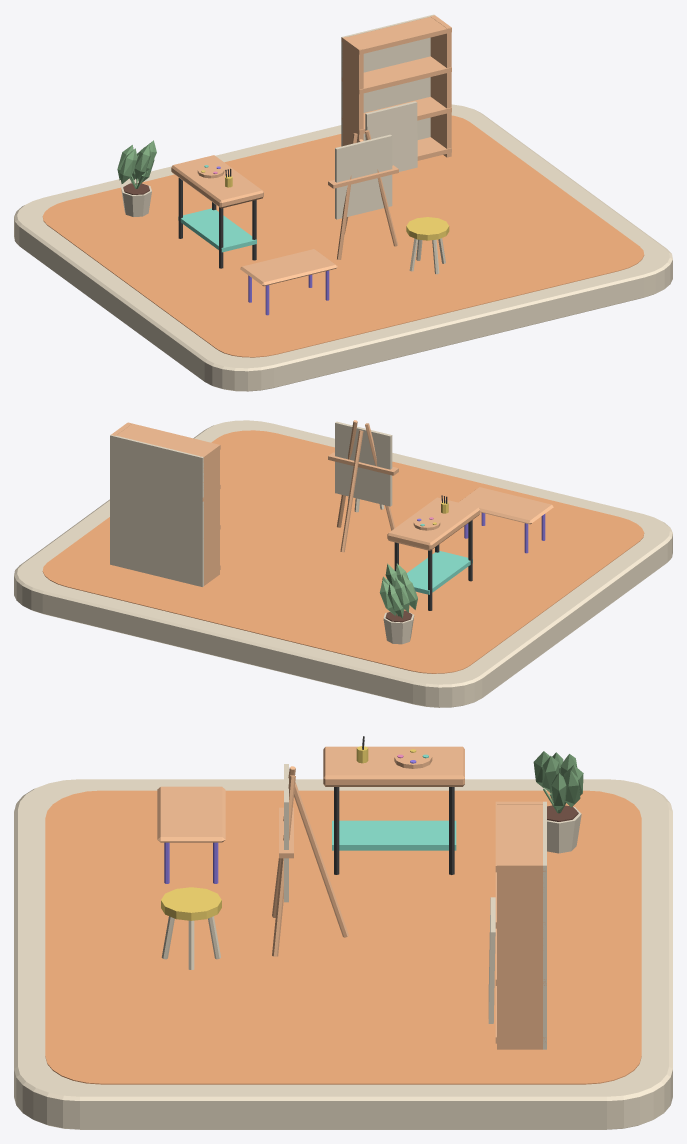
Rendered from room.fbx.
The picture shows the model from 3 angles, top to bottom: view 1: azimuth 30°, elevation 25°; view 2: azimuth 150°, elevation 25°; view 3: azimuth 270°, elevation 25°; orthographic projection. The views are drawn at different scales.
Parts seen in each view (by area): view 1: COM-02 Floor Surface, COM-01 Rounded Base Direct, Canvas, Back, Blank canvas, Worktop, Pot, Side.003, Side.002, Rounded table top, Shelf.003, Shelf.002 (+3 smaller); view 2: COM-02 Floor Surface, COM-01 Rounded Base Direct, Back, Canvas, Worktop, Pot, Side.002, Rounded table top, Lower shelf, Shelf.003, Rear leg; view 3: COM-02 Floor Surface, COM-01 Rounded Base Direct, Side.003, Worktop, Rounded table top, Lower shelf, Pot, Shelf.003, Seat, Rear leg, Back, Side.001 (+3 smaller).
Part boxes in pixels (left/top/right/bottom): COM-02 Floor Surface: left=42, top=115, right=644, bottom=357; COM-01 Rounded Base Direct: left=14, top=104, right=672, bottom=391; Canvas: left=335, top=134, right=392, bottom=219; Back: left=341, top=14, right=434, bottom=146; Blank canvas: left=365, top=101, right=417, bottom=171; Worktop: left=171, top=155, right=263, bottom=208; Pot: left=117, top=140, right=156, bottom=216; Side.003: left=430, top=15, right=451, bottom=157; Side.002: left=342, top=37, right=363, bottom=145; Rounded table top: left=240, top=249, right=337, bottom=286; Shelf.003: left=341, top=17, right=451, bottom=54; Shelf.002: left=341, top=56, right=451, bottom=94; COM-02 Floor Surface: left=42, top=430, right=644, bottom=673; COM-01 Rounded Base Direct: left=14, top=420, right=672, bottom=707; Back: left=110, top=434, right=203, bottom=586; Canvas: left=335, top=421, right=392, bottom=506; Worktop: left=387, top=497, right=479, bottom=550; Pot: left=379, top=563, right=417, bottom=644; Side.002: left=199, top=444, right=219, bottom=585; Rounded table top: left=459, top=487, right=553, bottom=524; Lower shelf: left=406, top=551, right=472, bottom=594; Shelf.003: left=116, top=422, right=220, bottom=456; Rear leg: left=340, top=430, right=363, bottom=552; COM-02 Floor Surface: left=45, top=790, right=641, bottom=1084; COM-01 Rounded Base Direct: left=14, top=779, right=672, bottom=1129; Side.003: left=497, top=862, right=542, bottom=1049; Worktop: left=323, top=746, right=464, bottom=786; Rounded table top: left=157, top=786, right=225, bottom=842; Lower shelf: left=332, top=820, right=456, bottom=850; Pot: left=533, top=751, right=583, bottom=853; Shelf.003: left=495, top=801, right=545, bottom=872; Seat: left=161, top=887, right=221, bottom=920; Rear leg: left=294, top=782, right=348, bottom=937; Back: left=543, top=801, right=546, bottom=1049; Side.001: left=272, top=775, right=295, bottom=956.
Size of the model in its own units: 600 by 190 by 520.
